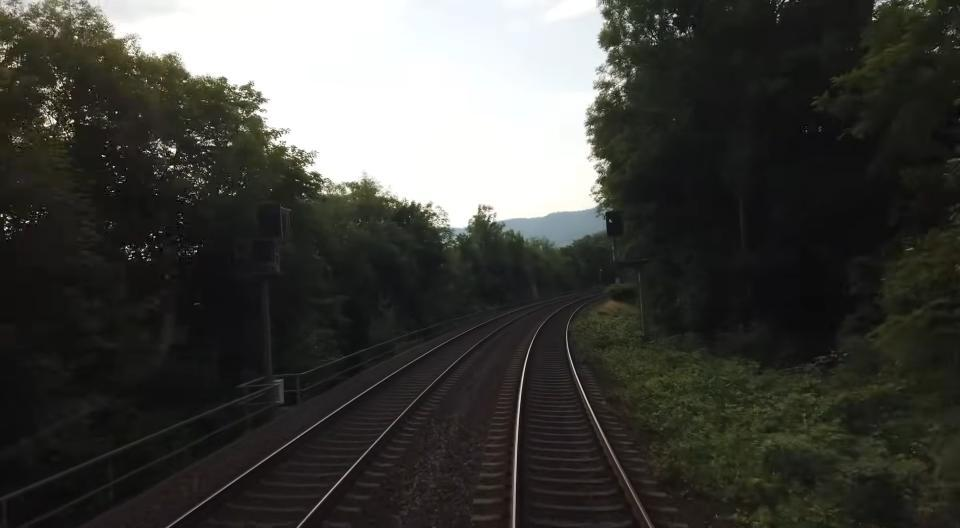Plant: (572, 301, 954, 528)
